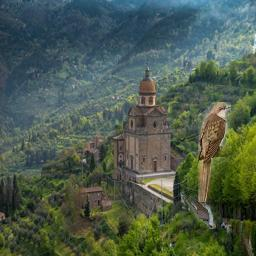Cuckoo: (199, 102, 232, 202), (180, 191, 217, 230)
